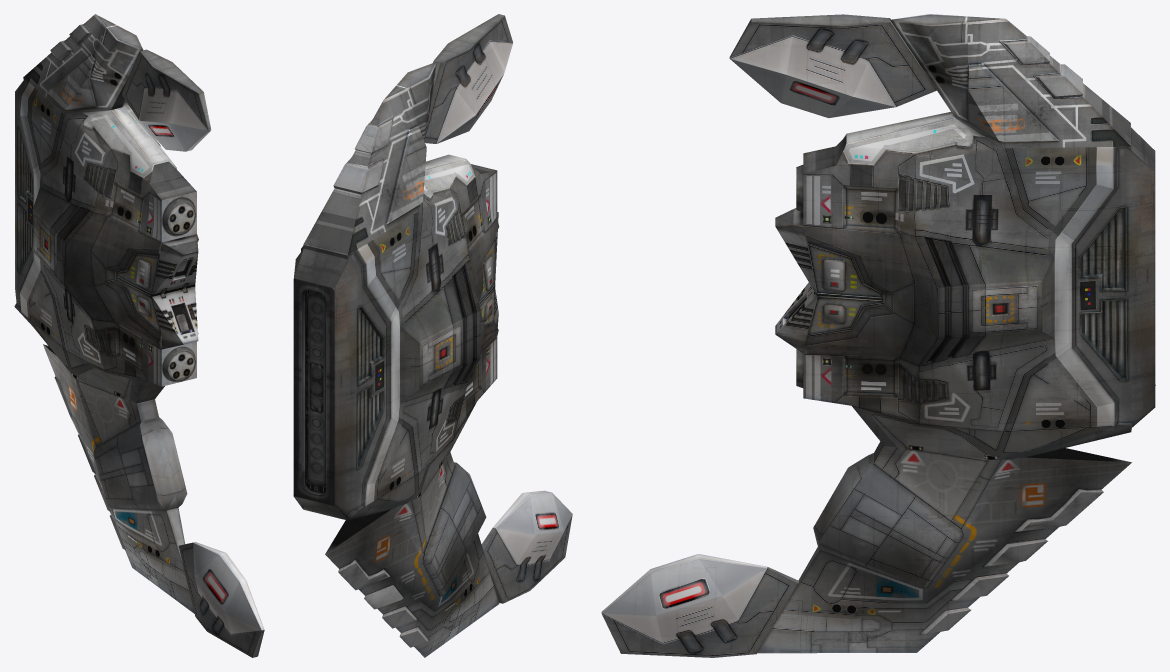
The model's file is kush_cloakedfighter.dae.
3 views of the same model, side by side, from view 1: azimuth 30°, elevation 25°; view 2: azimuth 150°, elevation 25°; view 3: azimuth 270°, elevation 25° (orthographic). The views are drawn at different scales.
Visible parts, largest first — view 1: Kus_CloakedFighter; view 2: Kus_CloakedFighter; view 3: Kus_CloakedFighter.
Part boxes in pixels (x1=…): Kus_CloakedFighter: x1=14, y1=14, x2=264, y2=657; Kus_CloakedFighter: x1=293, y1=14, x2=572, y2=657; Kus_CloakedFighter: x1=601, y1=14, x2=1155, y2=657.
Bounding box in the file's own units: 5.17 × 17.48 × 22.09.
Materials: 3 (3 with a texture image).
